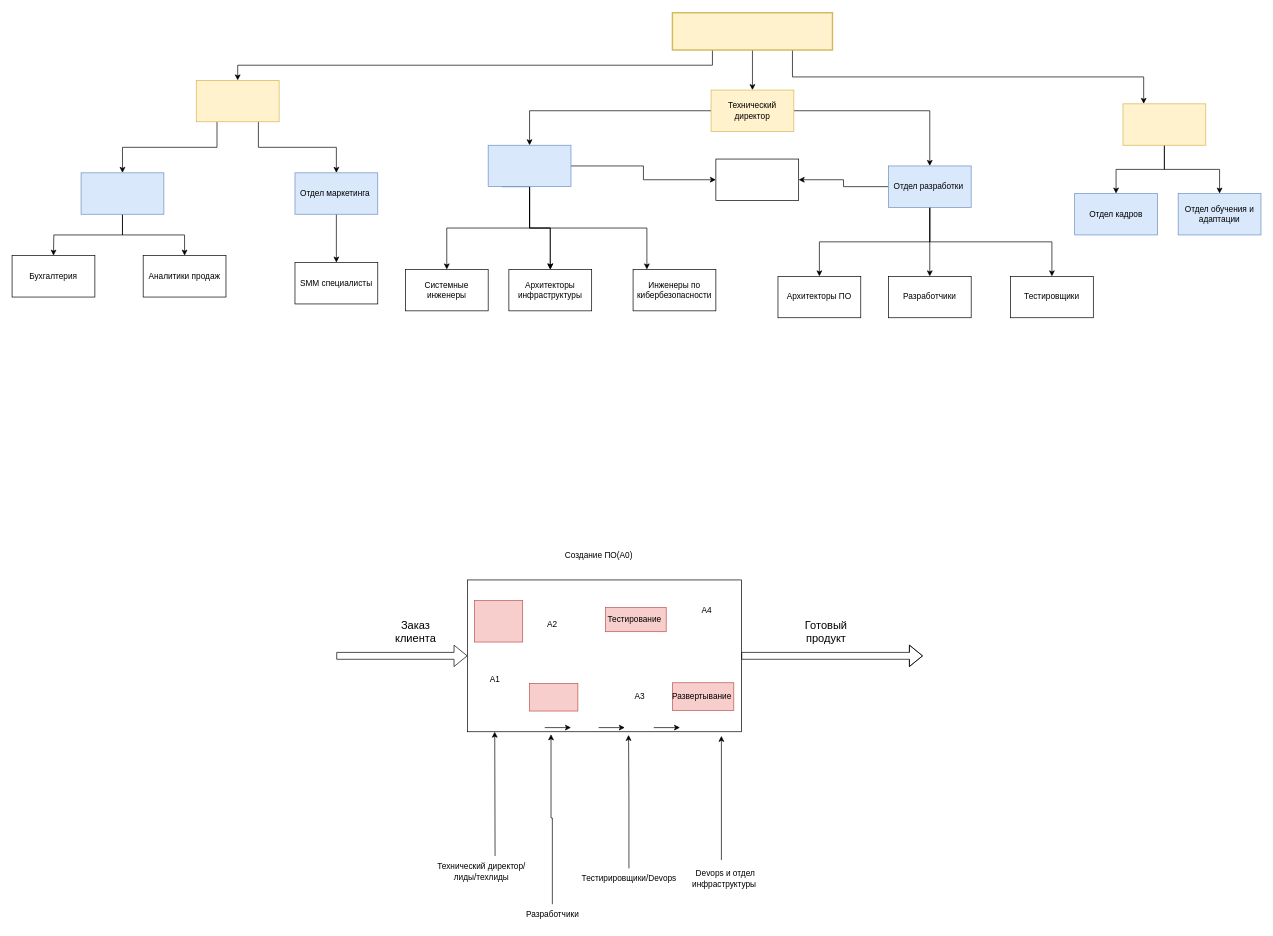
Some shapes in this 1273 by 936 pixel diagram are drawn without their labels. The centre of each missing label's shape, as x and y in pixels:
"Devops" belongs at point (757, 179).
"HR директор" belongs at point (1164, 124).
"Анализ требований" belongs at point (498, 621).
"Генеральный директор" belongs at point (752, 31).
"Коммерческий директор" belongs at point (237, 101).
"Отдел it инфраструктуры" belongs at point (529, 166).
"Отдел продаж" belongs at point (122, 193).
"Разработка кода" belongs at point (553, 697).
